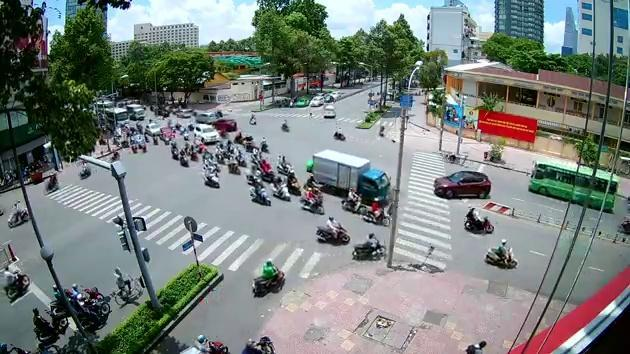xe buyt: (528, 157, 617, 212)
xe dap: (111, 265, 144, 305)
xe hoi: (431, 168, 490, 198), (192, 122, 218, 143), (212, 119, 237, 132), (195, 110, 217, 123)
xe may: (73, 292, 110, 331), (31, 306, 69, 342), (249, 255, 284, 293), (483, 237, 516, 270), (314, 214, 350, 244), (351, 230, 386, 260), (462, 203, 494, 234), (2, 265, 30, 298), (362, 196, 389, 227), (340, 185, 366, 213), (4, 199, 30, 226), (298, 186, 323, 214), (248, 178, 270, 206), (271, 173, 292, 201), (275, 151, 295, 177), (200, 162, 220, 187), (40, 169, 58, 195), (226, 153, 239, 175), (177, 146, 188, 167), (213, 144, 224, 164), (170, 140, 179, 161)
xe tai: (309, 148, 392, 209)
